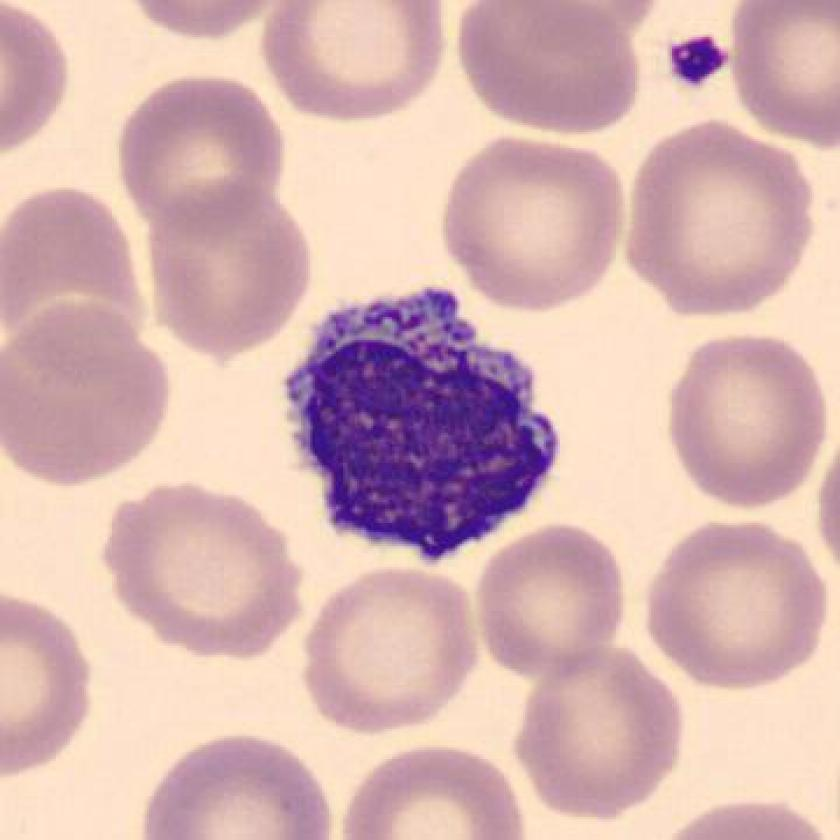lymphocyte: (277, 286, 571, 570)
